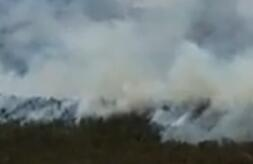yanwu: (0, 0, 252, 142)
